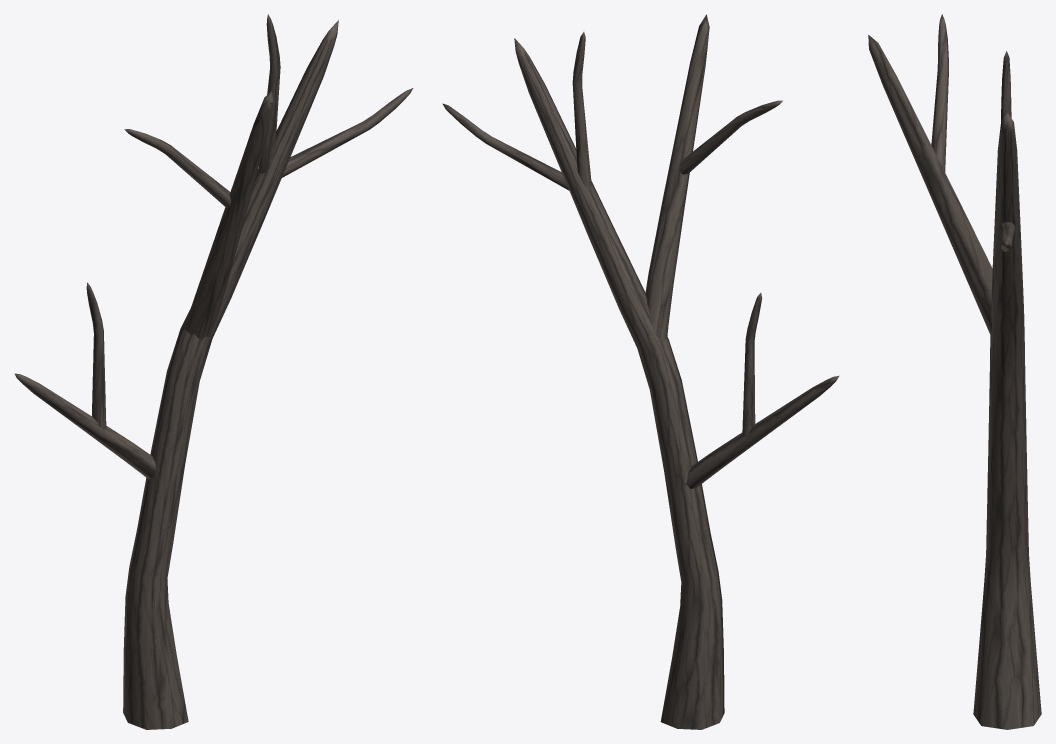
Rendered from DeadTree_9.glb.
3 renders of one model, left to right at view 1: azimuth 30°, elevation 25°; view 2: azimuth 150°, elevation 25°; view 3: azimuth 270°, elevation 25°, orthographic. The views are drawn at different scales.
Parts seen in each view (by area): view 1: DeadTree_9; view 2: DeadTree_9; view 3: DeadTree_9.
Boxes of the visible parts, box(x1,y1,x2,y2) form: DeadTree_9: box(14, 14, 413, 729); DeadTree_9: box(442, 14, 839, 729); DeadTree_9: box(868, 14, 1041, 729).
Bounding box in the file's own units: 2.06 × 3.3 × 0.7175.
Materials: 1 (1 with a texture image).
